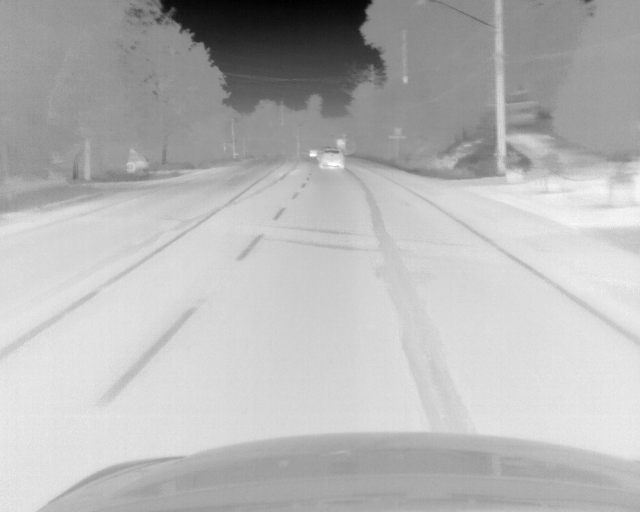car: (318, 147, 345, 169), (307, 147, 319, 159)
